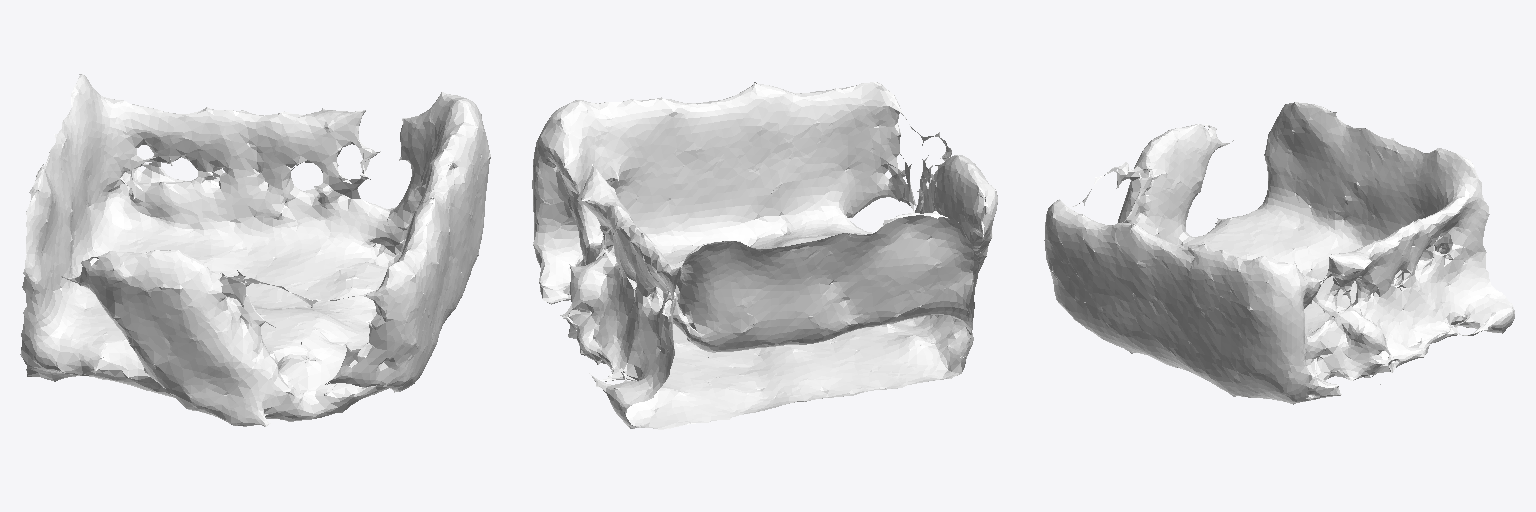
robot.urdf — cup.urdf:
<?xml version="1.0" ?>
<robot name="cup.urdf">
  <link name="baseLink">
    <contact>
      <lateral_friction value="1.0"/>
      <inertia_scaling value="1.0"/>
    </contact>
    <inertial>
      <origin rpy="0 0 0" xyz="0.000000 0.000000 0.000000"/>
      <mass value="0.000000"/>
      <inertia ixx="0.000000" ixy="0.000000" ixz="0.000000" iyy="0.000000" iyz="0.000000" izz="0.000000"/>
    </inertial>
    <visual>
      <origin rpy="0 0 0" xyz="0 0 0"/>
      <geometry>
       <mesh filename="cup.obj" scale="1 1 1"/>
      </geometry>
       <material name="white">
        <color rgba="1 1 1 1"/>
      </material>
    </visual>
    <collision>
      <origin rpy="0 0 0" xyz="0 0 0"/>
      <geometry>
        <mesh filename="cup_vhacd.obj" scale="1 1 1"/>
      </geometry>
    </collision>
  </link>
</robot>

--- Render facts (derived) ---
Views: 3 orthographic renders of the robot side by side, from view 1: azimuth 30°, elevation 25°; view 2: azimuth 150°, elevation 25°; view 3: azimuth 270°, elevation 25°.
Robot: cup.urdf — 1 links, 0 joints (none); root link baseLink; default pose: every joint at zero.
Links seen in each view (by area): view 1: baseLink; view 2: baseLink; view 3: baseLink.
Boxes of the visible links, x1,y1,x2,y2 form: baseLink: [20, 74, 490, 426]; baseLink: [532, 82, 997, 429]; baseLink: [1044, 102, 1514, 404].
Bounding box of the posed robot: 0.1202 × 0.1296 × 0.0479 m (x, y, z).
Meshes: 1 distinct files referenced, 1 mesh visuals loaded (1 OBJ).